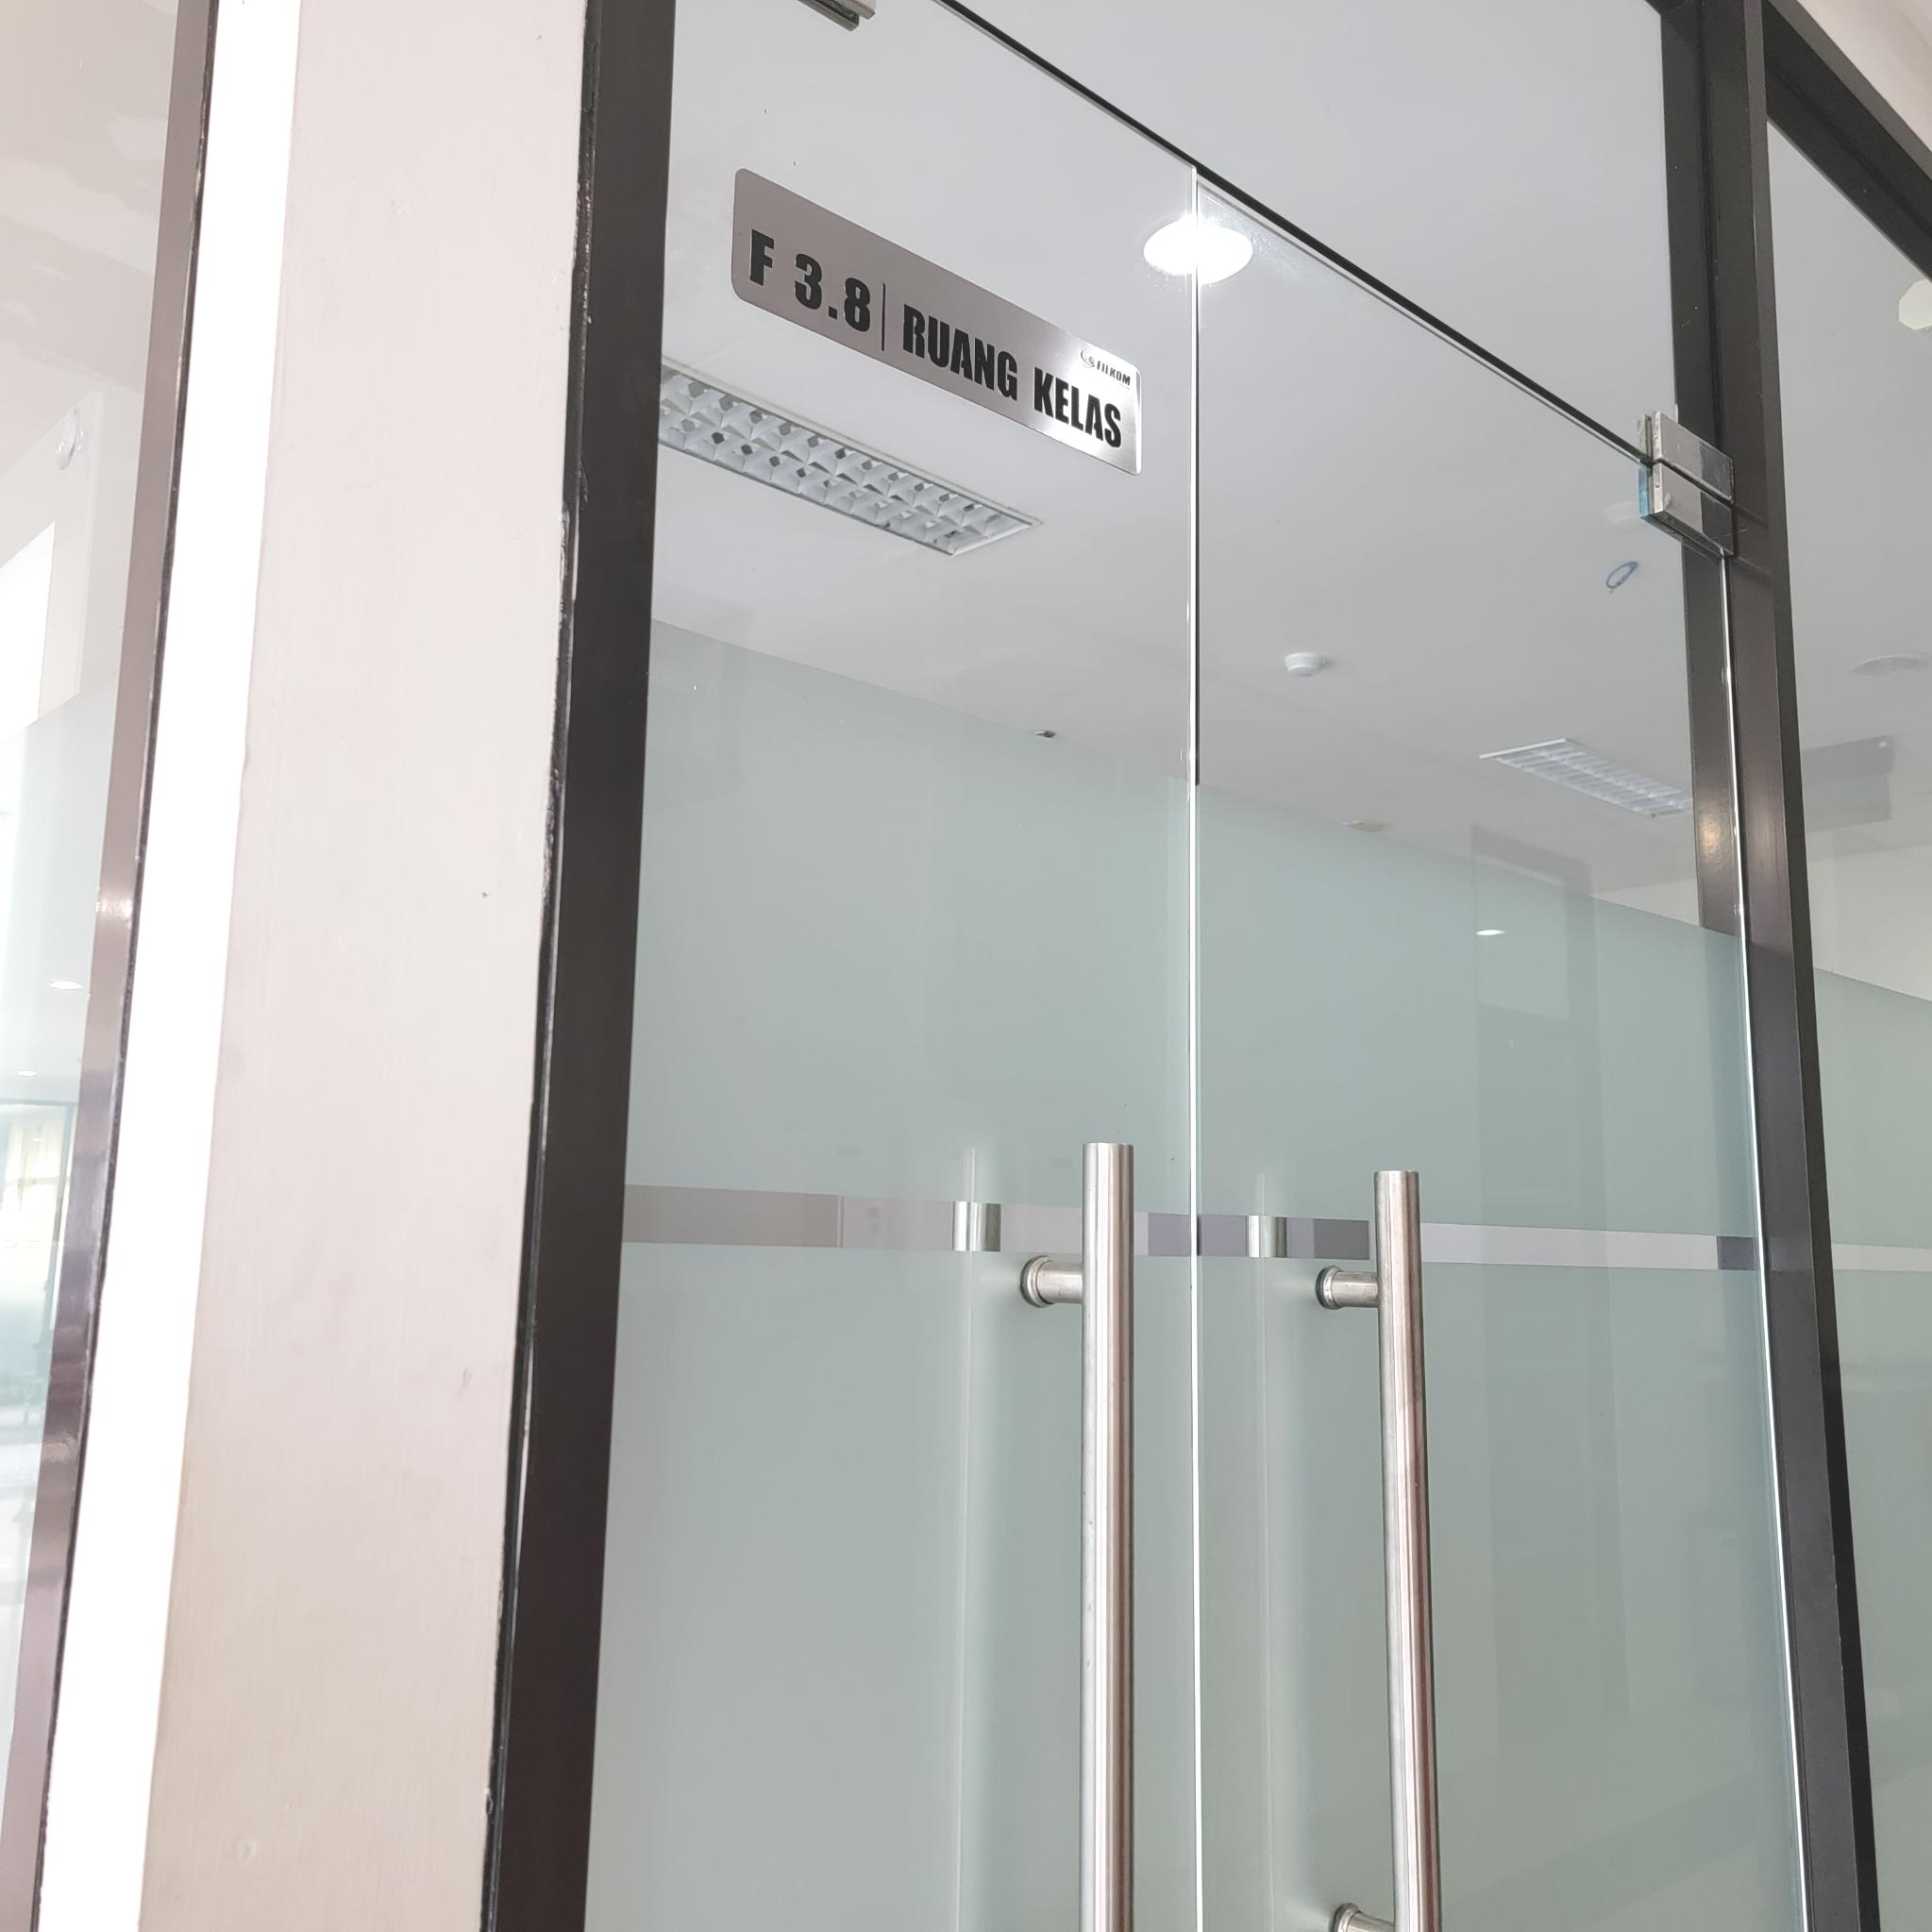plate: (729, 165, 1145, 479)
